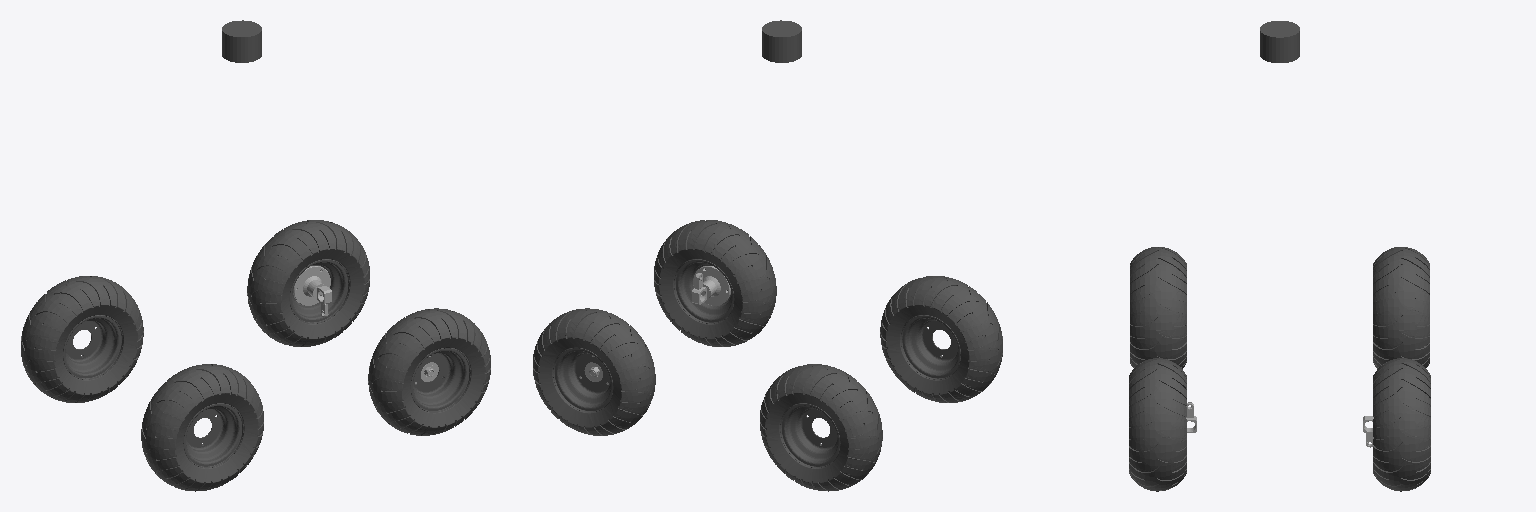
URDF robot description (grapescar):
<robot name="grapescar">

  <link name="base_footprint">
    <visual>
      <origin xyz="0 0 0" rpy="0 0 3.14" />
      <geometry>
        <mesh filename="package://car_navigation/meshes/base_link.STL" />
      </geometry>
      <material name="">
        <color rgba="0.0 0.0 0.0 1" />
      </material>
    </visual>
  </link>

  <link name="FR_axle_link">
    <visual>
      <origin xyz="0 0 0" rpy="0 0 0" />
      <geometry>
        <mesh filename="package://car_navigation/meshes/FR_axle_link.STL" />
      </geometry>
      <material name="">
        <color rgba="0.69804 0.69804 0.69804 1" />
      </material>
    </visual>
  </link>

  <joint name="FR_axle_joint" type="revolute">
    <!-- <origin xyz="-0.2945 0.2185 0.16229" rpy="-1.5708 -6.123E-17 -1.5708" /> -->
    <origin xyz="0.2945 -0.2185 0.16229" rpy="0 0 1.5708" />
    <parent link="base_footprint" />
    <child link="FR_axle_link" />
    <axis xyz="0 0 1" />
    <limit lower="-0.52" upper="0.52" effort="0" velocity="0" />
  </joint>

  <link name="FR_wheel_link">
    <visual>
      <origin xyz="0 0 0" rpy="0 0 0" />
      <geometry>
        <mesh filename="package://car_navigation/meshes/FR_wheel_link.STL" />
      </geometry>
      <material name="">
        <color rgba="0.38431 0.38431 0.38431 1" />
      </material>
    </visual>
  </link>

  <joint name="FR_wheel_joint" type="continuous">
    <origin xyz="-0.0815 0 0" rpy="-1.5708 -1.0092 -1.5708" />
    <parent link="FR_axle_link" />
    <child link="FR_wheel_link" />
    <axis xyz="0 0 1" />
  </joint>

  <link name="FL_axle_link">
    <visual>
      <origin xyz="0 0 0" rpy="0 0 0" />
      <geometry>
        <mesh filename="package://car_navigation/meshes/FL_axle_link.STL" />
      </geometry>
      <material name="">
        <color rgba="0.69804 0.69804 0.69804 1" />
      </material>
    </visual>
  </link>

  <joint name="FL_axle_joint" type="revolute">
    <!-- <origin xyz="-0.2945 -0.2185 0.16229" rpy="-1.5708 6.123E-17 1.5708" /> -->
    <origin xyz="0.2945 0.2185 0.16229" rpy="0 0.0 -1.5708" />
    <parent link="base_footprint" />
    <child link="FL_axle_link" />
    <!-- <axis xyz="0 -1 0" /> -->
    <axis xyz="0 0 1" />
    <limit lower="-0.52" upper="0.52" effort="0" velocity="0" />
  </joint>

  <link name="FL_wheel_link">
    <visual>
      <origin xyz="0 0 0" rpy="0 0 0" />
	  <geometry>
		<mesh filename="package://car_navigation/meshes/FL_wheel_link.STL" />
	  </geometry>
      <material name="">
        <color rgba="0.38431 0.38431 0.38431 1" />
      </material>
    </visual>
  </link>

  <joint name="FL_wheel_joint" type="continuous">
    <origin xyz="-0.0815 0 0" rpy="-1.5708 -1.0217 1.5708" />
    <parent link="FL_axle_link" />
    <child link="FL_wheel_link" />
    <axis xyz="0 0 1" />
  </joint>

  <link name="RL_wheel_link">
    <visual>
      <origin xyz="0 0 0" rpy="0 0 0" />
      <geometry>
        <mesh filename="package://car_navigation/meshes/RL_wheel_link.STL" />
      </geometry>
      <material name="">
        <color rgba="0.38431 0.38431 0.38431 1" />
      </material>
    </visual>
  </link>

  <joint name="RL_wheel_joint" type="continuous">
    <!-- <origin xyz="0.355 -0.299 0.16119" rpy="-1.5708 0.5819 -3.1416" /> -->
    <origin xyz="-0.355 -0.299 0.16119" rpy="-1.5708 6.123E-17 0" />
    <parent link="base_footprint" />
    <child link="RL_wheel_link" />
    <axis xyz="0 0 1" />
  </joint>

  <link name="RR_wheel_link">
    <visual>
      <origin xyz="0 0 0" rpy="0 0 0" />
      <geometry>
        <mesh filename="package://car_navigation/meshes/RR_wheel_link.STL" />
      </geometry>
      <material name="">
        <color rgba="0.38431 0.38431 0.38431 1" />
      </material>
    </visual>
  </link>

  <joint name="RR_wheel_joint" type="continuous">
    <!-- <origin xyz="0.355 0.299 0.16119" rpy="1.5708 0.0 -9.0256E-17" /> -->
    <origin xyz="-0.355 0.299 0.16119" rpy="-1.5708 -6.123E-17 0" />
    <parent link="base_footprint" />
    <child link="RR_wheel_link" />
    <axis xyz="0 0 1" />
</joint>

<link name="rslidar">
	<visual>
		<origin xyz="0 0 0" rpy="0 0 0" />
		<geometry>
			<cylinder length="0.07" radius="0.05" />
		</geometry>
		<material name="">
			<color rgba="0.38431 0.38431 0.38431 1" />
		</material>
	</visual>
</link>

<joint name="lidar_joint" type="fixed">
	<origin xyz="-0.07 0.0 1.03" rpy="0 0 0" />
	<parent link="base_footprint" />
	<child link="rslidar" />
	<axis xyz="0 0 1" />
</joint>



</robot>

--- Facts derived from the render (not from the file) ---
3 views of the same robot in one strip: view 1: azimuth 30°, elevation 25°; view 2: azimuth 150°, elevation 25°; view 3: azimuth 270°, elevation 25° (orthographic).
Robot: grapescar — 8 links, 7 joints (2 revolute, 4 continuous, 1 fixed); root link base_footprint; default pose: every joint at zero.
Visible links, largest first — view 1: RL_wheel_link, FR_wheel_link, RR_wheel_link, FL_wheel_link, rslidar, FL_axle_link; view 2: FL_wheel_link, RR_wheel_link, RL_wheel_link, FR_wheel_link, rslidar, FR_axle_link; view 3: FR_wheel_link, FL_wheel_link, RR_wheel_link, RL_wheel_link, rslidar.
Boxes of the visible links, x1,y1,x2,y2 form: RL_wheel_link: [141, 364, 263, 491]; FR_wheel_link: [368, 308, 490, 435]; RR_wheel_link: [21, 276, 143, 402]; FL_wheel_link: [247, 220, 369, 346]; rslidar: [222, 20, 261, 62]; FL_axle_link: [293, 266, 331, 317]; FL_wheel_link: [533, 308, 655, 435]; RR_wheel_link: [760, 364, 882, 491]; RL_wheel_link: [880, 276, 1002, 402]; FR_wheel_link: [654, 220, 776, 346]; rslidar: [762, 20, 801, 62]; FR_axle_link: [692, 266, 730, 305]; FR_wheel_link: [1129, 358, 1186, 491]; FL_wheel_link: [1373, 358, 1430, 491]; RR_wheel_link: [1373, 247, 1429, 368]; RL_wheel_link: [1130, 247, 1186, 368]; rslidar: [1260, 21, 1299, 62].
Bounding box of the posed robot: 0.9774 × 0.7416 × 1.07 m (x, y, z).
Meshes: 7 distinct files referenced, 6 mesh visuals loaded (6 binary STL); not drawn: 1 (reference not matched to a file when rendering).